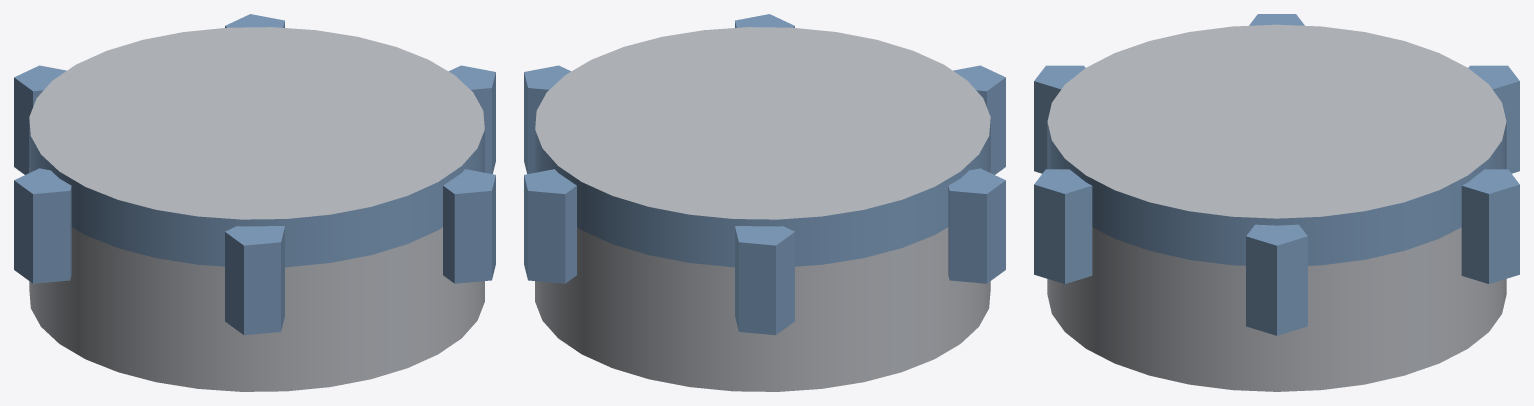
3 views of the same model, side by side, from view 1: azimuth 30°, elevation 25°; view 2: azimuth 150°, elevation 25°; view 3: azimuth 270°, elevation 25° (orthographic).
Visible parts, largest first — view 1: ratchet_6-50; view 2: ratchet_6-50; view 3: ratchet_6-50.
Part boxes in pixels (x1,y1,x2,y2): ratchet_6-50: [14, 14, 495, 391]; ratchet_6-50: [524, 14, 1005, 391]; ratchet_6-50: [1034, 14, 1519, 391].
Bounding box in the file's own units: 14.34 × 5 × 12.7.
